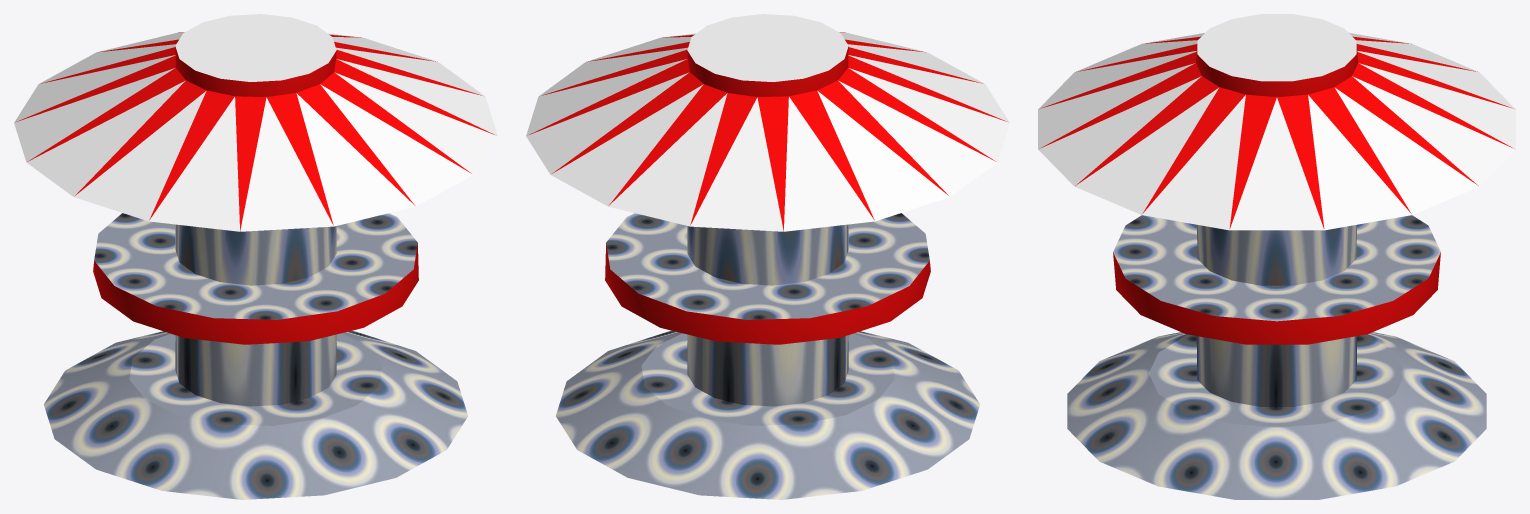
File: pin.obj
The picture shows the model from 3 angles, left to right: view 1: azimuth 30°, elevation 25°; view 2: azimuth 150°, elevation 25°; view 3: azimuth 270°, elevation 25°; orthographic projection.
Visible parts, largest first — view 1: cylinder1_mtrl/chrome, cylinder1_mtrl/white, cylinder1_mtrl/red; view 2: cylinder1_mtrl/chrome, cylinder1_mtrl/white, cylinder1_mtrl/red; view 3: cylinder1_mtrl/chrome, cylinder1_mtrl/white, cylinder1_mtrl/red.
Part boxes in pixels (left/top/right/bottom): cylinder1_mtrl/chrome: left=44, top=213, right=467, bottom=499; cylinder1_mtrl/white: left=14, top=14, right=497, bottom=231; cylinder1_mtrl/red: left=16, top=32, right=494, bottom=344; cylinder1_mtrl/chrome: left=556, top=213, right=979, bottom=499; cylinder1_mtrl/white: left=526, top=14, right=1009, bottom=231; cylinder1_mtrl/red: left=529, top=32, right=1007, bottom=344; cylinder1_mtrl/chrome: left=1067, top=215, right=1486, bottom=499; cylinder1_mtrl/white: left=1038, top=14, right=1515, bottom=230; cylinder1_mtrl/red: left=1040, top=36, right=1513, bottom=344.
Size of the model in its own units: 47.08 by 39.55 by 47.08.
Materials: 4 (4 with a texture image).
